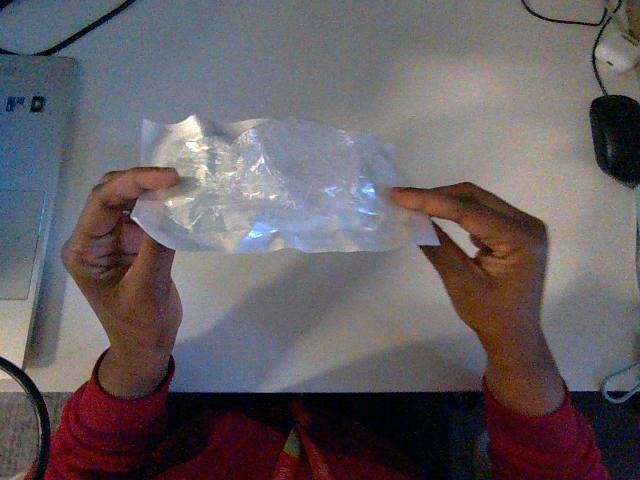gallipot: (131, 116, 437, 252)
